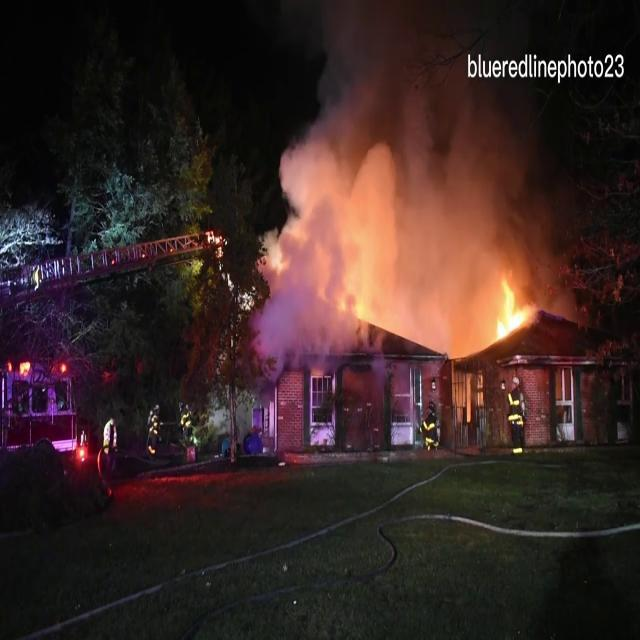Fire: (479, 272, 544, 348)
Smoke: (254, 0, 566, 316)
